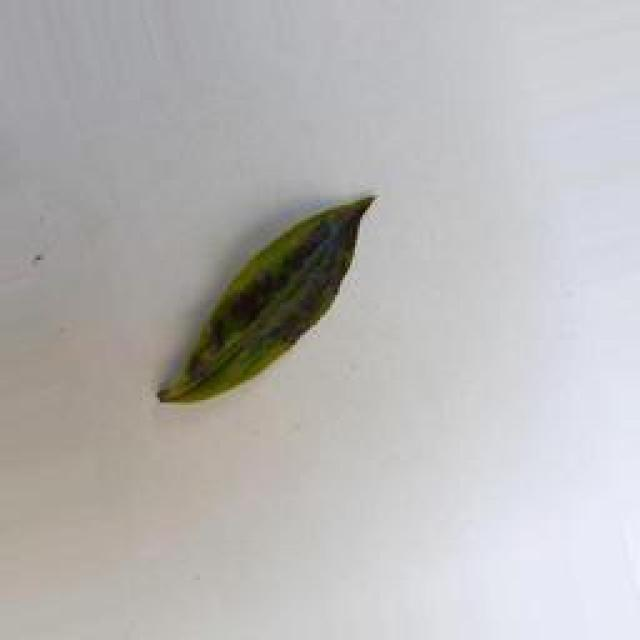Helopeltis: (162, 191, 384, 404)
